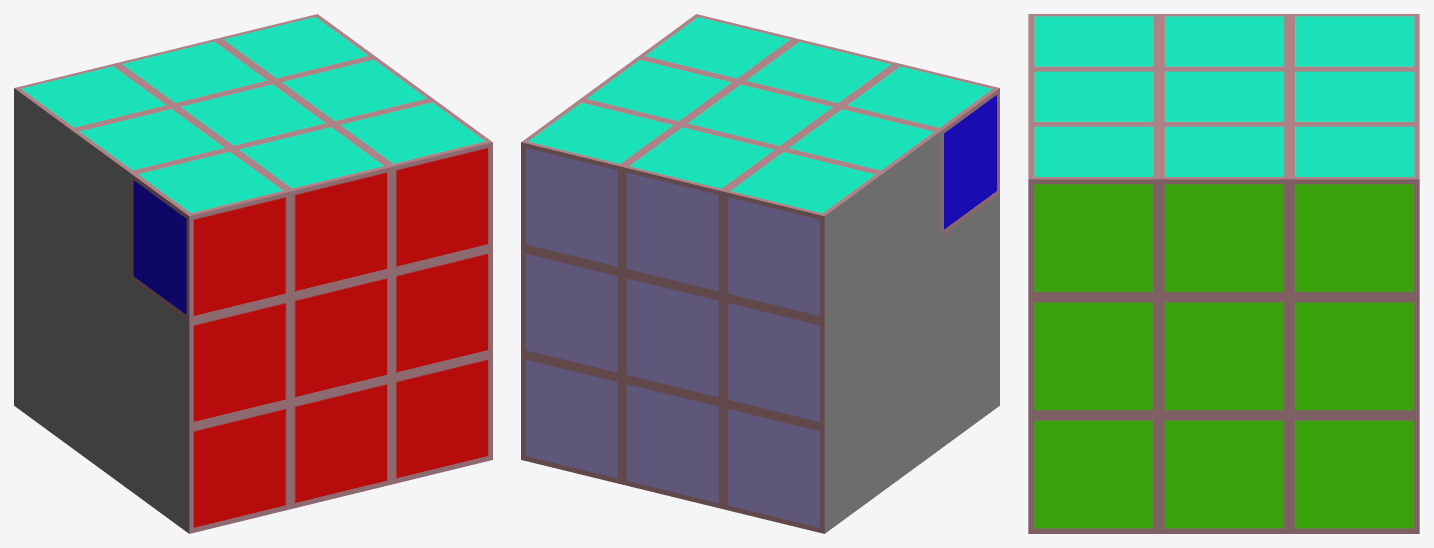
File: mofang.FBX
The picture shows the model from 3 angles, left to right: view 1: azimuth 30°, elevation 25°; view 2: azimuth 150°, elevation 25°; view 3: azimuth 270°, elevation 25°; orthographic projection. The views are drawn at different scales.
Visible parts, largest first — view 1: Box14, Box05, Box23, Box17, Box12, Box13, Box15, Box08, Box26, Box03, Box21, Box04 (+7 smaller); view 2: Box13, Box04, Box22, Box16, Box11, Box14, Box15, Box07, Box25, Box02, Box20, Box05 (+7 smaller); view 3: Box18, Box16, Box17, Box09, Box27, Box07, Box08, Box25, Box26, Box10, Box11, Box12 (+3 smaller).
Boxes of the visible parts, x1,y1,x2,y2 form: Box14: (131, 149, 290, 321); Box05: (131, 280, 290, 427); Box23: (131, 385, 290, 533); Box17: (333, 99, 492, 272); Box12: (232, 124, 391, 297); Box13: (14, 63, 173, 236); Box15: (72, 106, 231, 278); Box08: (391, 248, 492, 378); Box26: (391, 354, 492, 484); Box03: (290, 273, 391, 403); Box21: (290, 379, 391, 508); Box04: (14, 194, 72, 342); Box13: (723, 149, 882, 321); Box04: (723, 280, 882, 427); Box22: (723, 385, 882, 533); Box16: (521, 99, 680, 272); Box11: (622, 124, 781, 297); Box14: (840, 63, 999, 236); Box15: (782, 106, 941, 278); Box07: (521, 248, 622, 378); Box25: (521, 354, 622, 484); Box02: (622, 273, 723, 403); Box20: (622, 379, 723, 508); Box05: (941, 194, 999, 342); Box18: (1158, 124, 1289, 297); Box16: (1289, 124, 1419, 297); Box17: (1028, 124, 1158, 297); Box09: (1158, 297, 1289, 415); Box27: (1158, 415, 1289, 533); Box07: (1289, 297, 1419, 415); Box08: (1028, 297, 1158, 415); Box25: (1289, 415, 1419, 533); Box26: (1028, 415, 1158, 533); Box10: (1158, 69, 1289, 124); Box11: (1289, 69, 1419, 124); Box12: (1028, 69, 1158, 124).
Size of the model in its own units: 30 by 30 by 30.
Materials: 80 (72 with a texture image).
